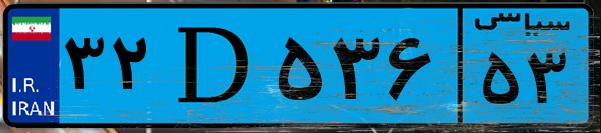2: (110, 28, 158, 98)
3: (330, 28, 385, 110), (57, 26, 110, 100), (525, 38, 570, 115)
5: (270, 28, 330, 110), (475, 38, 525, 113)
6: (385, 28, 445, 110)
D: (158, 12, 270, 120)
